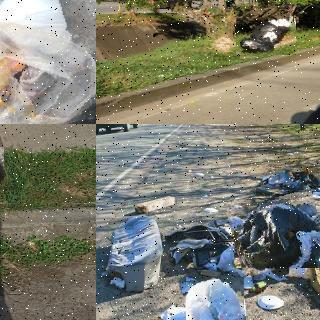Garbage: (0, 0, 96, 124), (230, 193, 320, 272), (183, 274, 246, 320), (235, 15, 298, 57), (216, 236, 262, 272)
